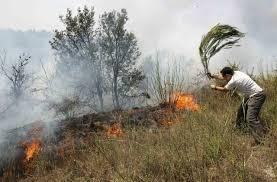fire: (16, 130, 44, 161), (169, 87, 200, 110), (102, 116, 125, 137)
